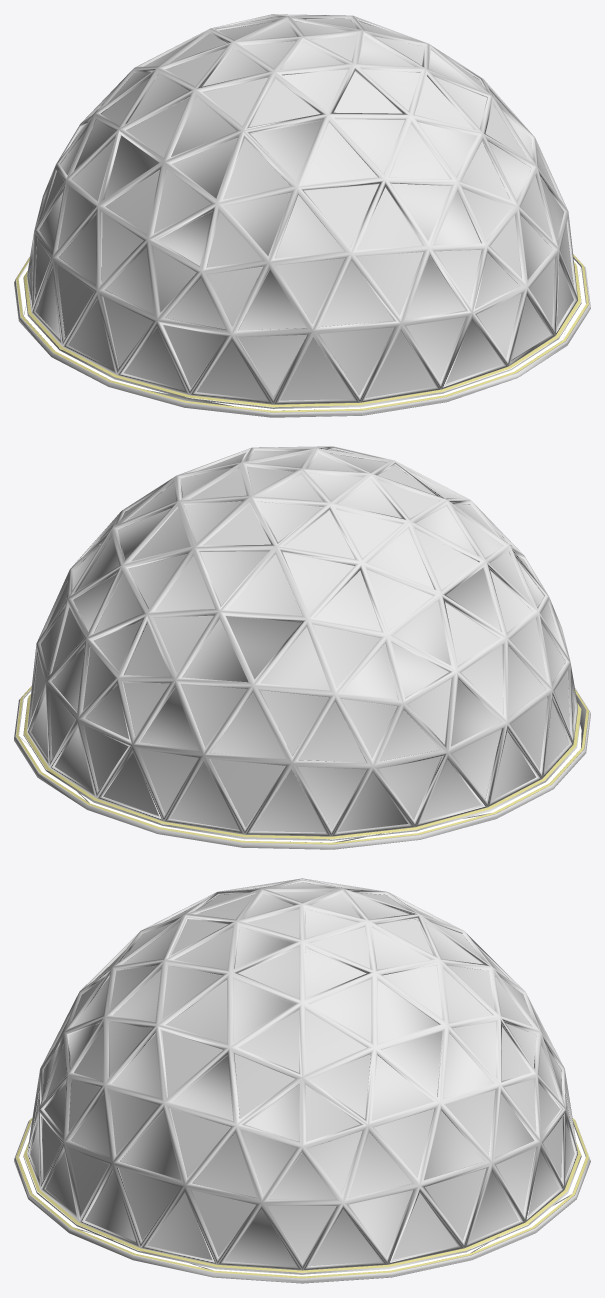
File: domo.glb
3 views of the same model, one above another, from view 1: azimuth 30°, elevation 25°; view 2: azimuth 150°, elevation 25°; view 3: azimuth 270°, elevation 25° (orthographic).
Visible parts, largest first — view 1: Object_5_1, Object_6_2, Object_8_4, Object_4_0, Object_7_3, Object_9_5; view 2: Object_5_1, Object_6_2, Object_8_4, Object_4_0, Object_7_3, Object_9_5; view 3: Object_5_1, Object_6_2, Object_8_4, Object_4_0, Object_7_3, Object_9_5.
Boxes of the visible parts, x1,y1,x2,y2 form: Object_5_1: [29, 17, 573, 400]; Object_6_2: [14, 14, 590, 417]; Object_8_4: [16, 254, 588, 412]; Object_4_0: [16, 22, 589, 417]; Object_7_3: [19, 259, 585, 410]; Object_9_5: [23, 257, 581, 410]; Object_5_1: [31, 449, 575, 832]; Object_6_2: [14, 446, 590, 849]; Object_8_4: [16, 686, 588, 844]; Object_4_0: [15, 454, 588, 849]; Object_7_3: [19, 691, 581, 842]; Object_9_5: [18, 689, 586, 842]; Object_5_1: [30, 882, 574, 1266]; Object_6_2: [14, 878, 590, 1283]; Object_8_4: [16, 1115, 588, 1278]; Object_4_0: [15, 895, 589, 1283]; Object_7_3: [19, 1121, 585, 1276]; Object_9_5: [19, 1123, 585, 1274].
Size of the model in its own units: 3 by 1.48 by 3.
